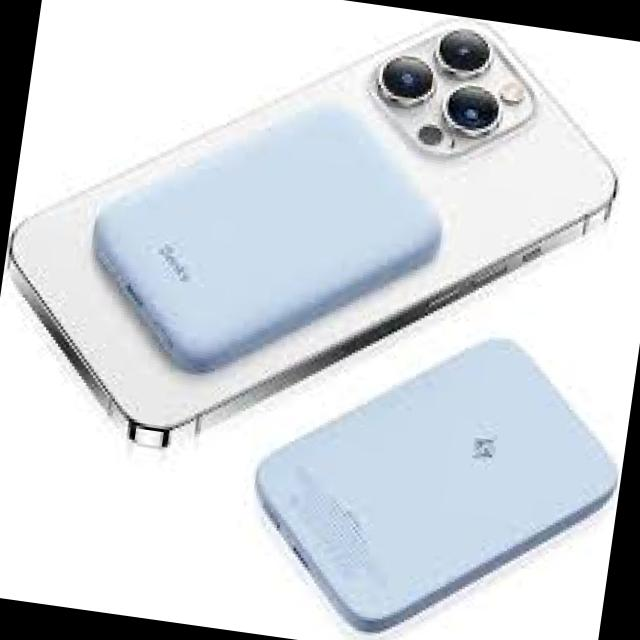power_bank: (226, 300, 638, 640), (74, 72, 460, 412)
